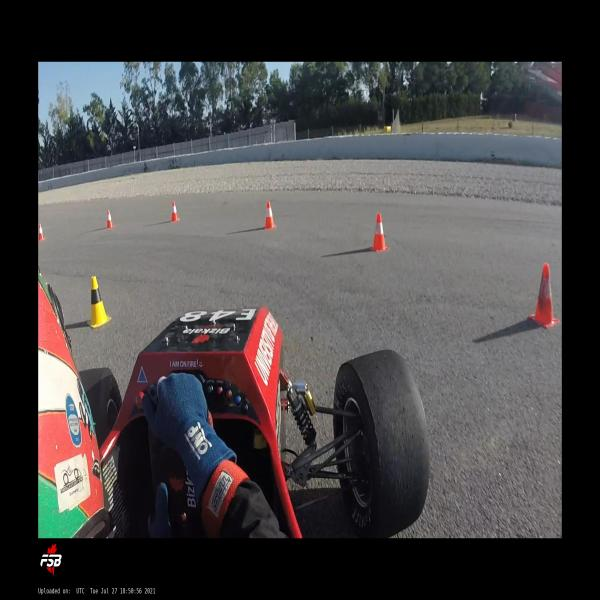orange_cone: (528, 264, 560, 328), (369, 213, 390, 252), (264, 201, 276, 230), (170, 200, 180, 223), (106, 210, 115, 229), (38, 222, 46, 242)
yellow_cone: (86, 276, 111, 329)
